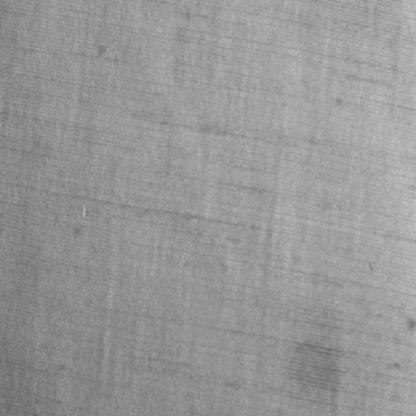oil spot: (288, 339, 340, 405)
